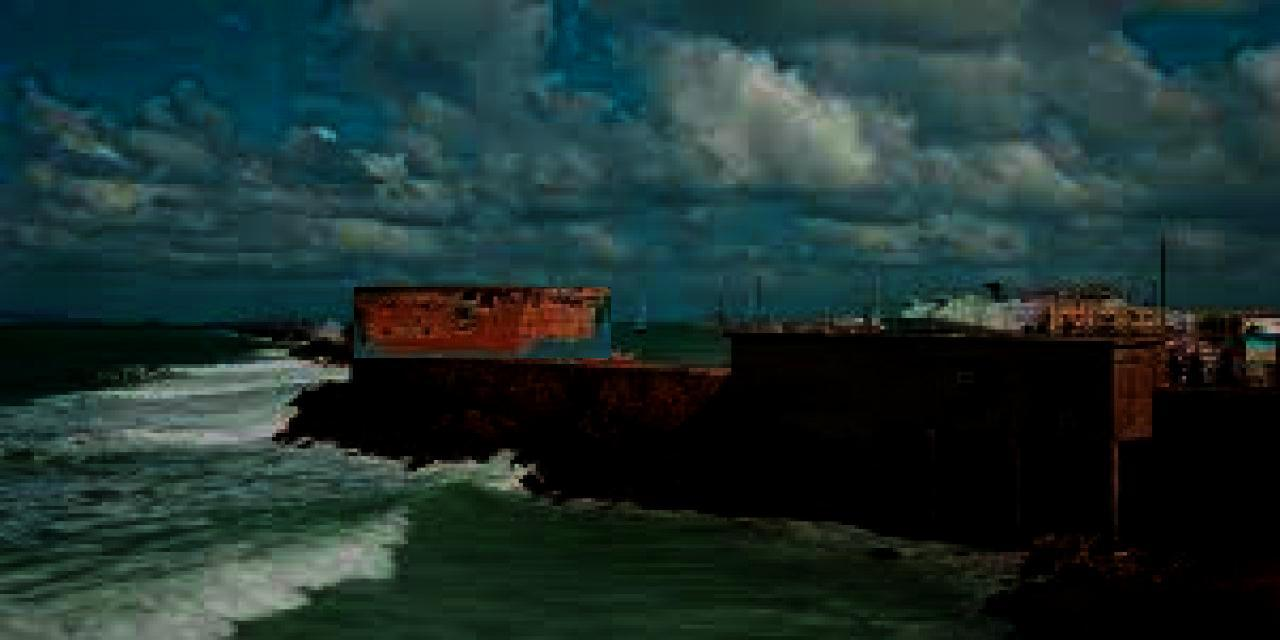Kules: (355, 288, 612, 359)
